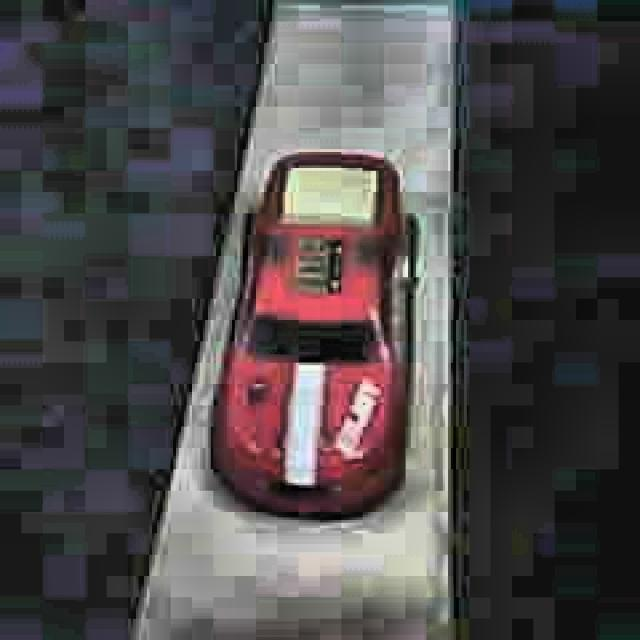car: (210, 150, 421, 527)
